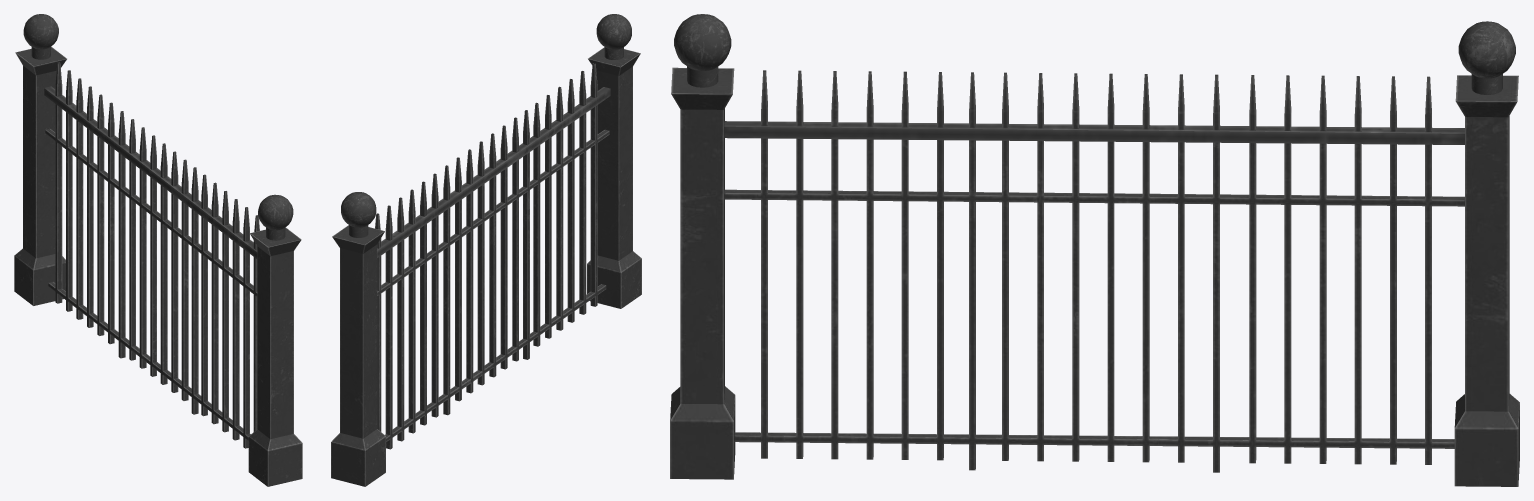
The model's file is railing78.glb.
The picture shows the model from 3 angles, left to right: view 1: azimuth 30°, elevation 25°; view 2: azimuth 150°, elevation 25°; view 3: azimuth 270°, elevation 25°; orthographic projection. The views are drawn at different scales.
Visible parts, largest first — view 1: Railing_Low; view 2: Railing_Low; view 3: Railing_Low.
Boxes of the visible parts, left/top/right/bottom form: Railing_Low: left=14, top=14, right=302, bottom=486; Railing_Low: left=331, top=14, right=641, bottom=486; Railing_Low: left=670, top=14, right=1519, bottom=486.
Bounding box in the file's own units: 1.18 × 7.05 × 12.08.
Materials: 1 (1 with a texture image).
